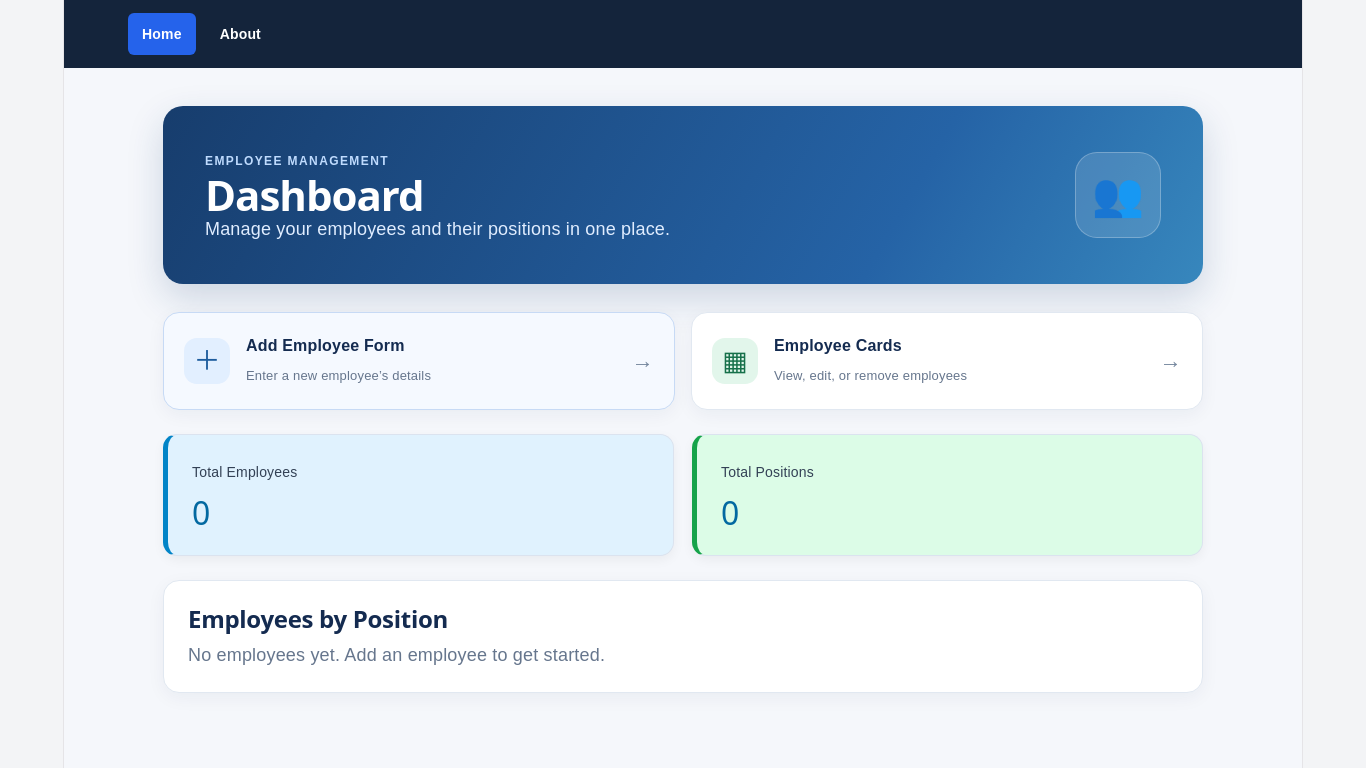
Test: App navigation › opens the employee form from the home action
Click the link "＋ Add Employee Form Enter a new employee’s details →".
click(207, 361)  # box [163, 312, 675, 410]
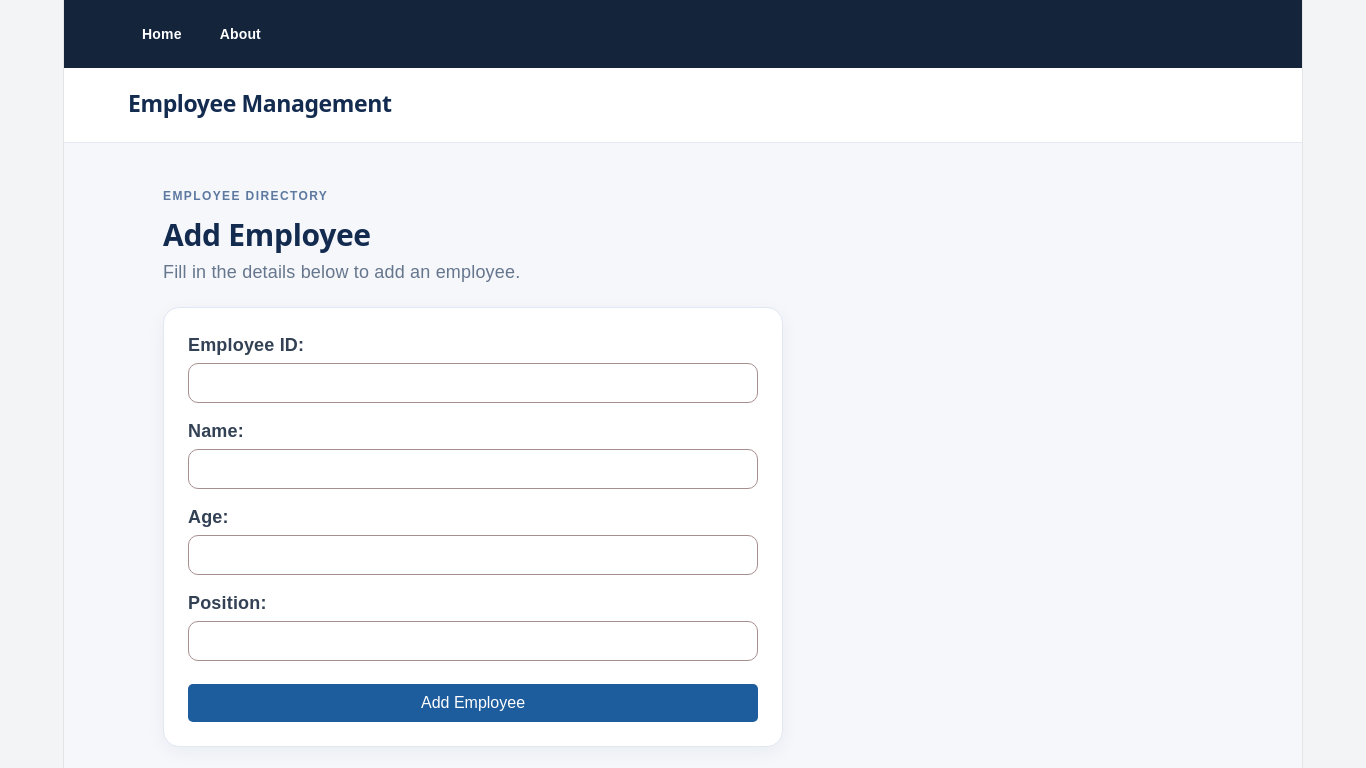
Now the number field labelled "Employee ID:" is shown, box [188, 363, 758, 403]
Now the field labelled "Position:" is shown, box [188, 621, 758, 661]
